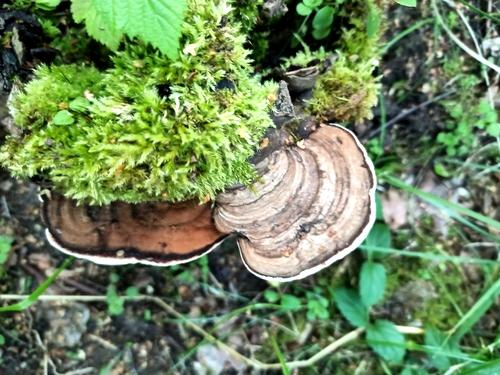Ganoderma - Fruit Body: (213, 123, 378, 284), (43, 192, 211, 266)
